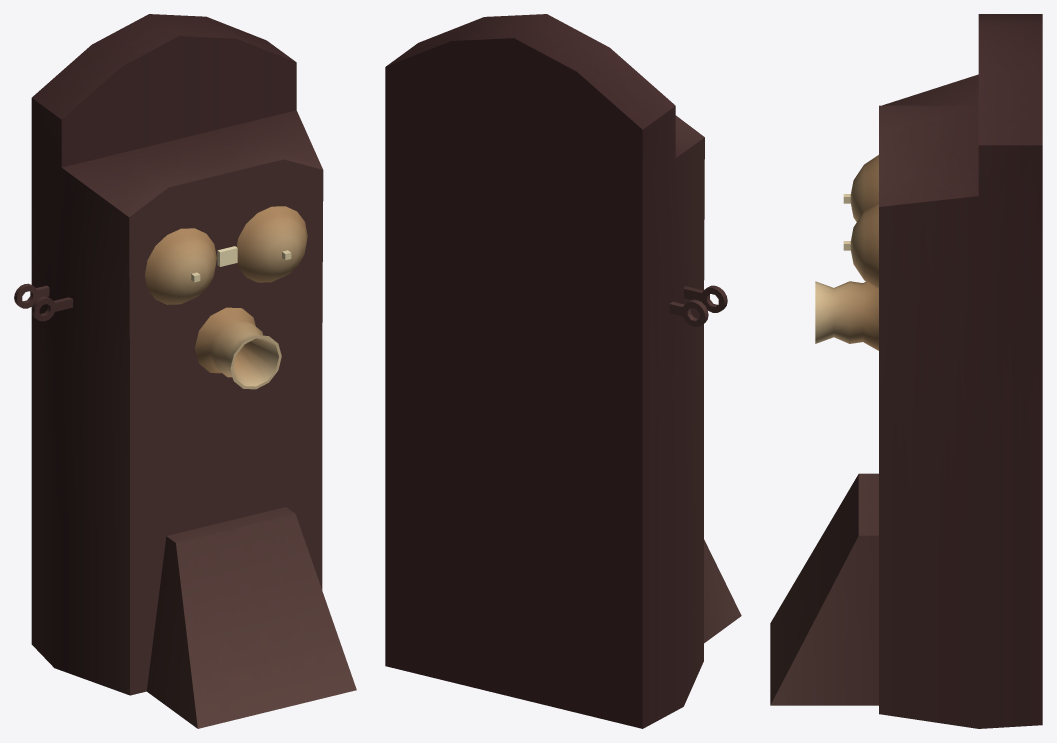
The picture shows the model from 3 angles, left to right: view 1: azimuth 30°, elevation 25°; view 2: azimuth 150°, elevation 25°; view 3: azimuth 270°, elevation 25°; orthographic projection. The views are drawn at different scales.
Visible parts, largest first — view 1: Base; view 2: Base; view 3: Base.
Boxes of the visible parts, bbox=[...] form: Base: bbox=[14, 14, 356, 728]; Base: bbox=[385, 14, 741, 728]; Base: bbox=[770, 14, 1042, 728].
Size of the model in its own units: 28.33 by 58.24 by 22.5.
1 material, 1 textured.
